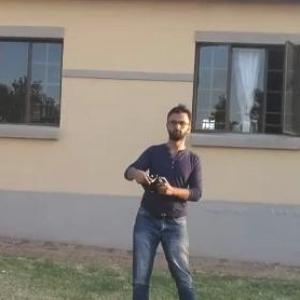follow: (118, 97, 209, 299)
